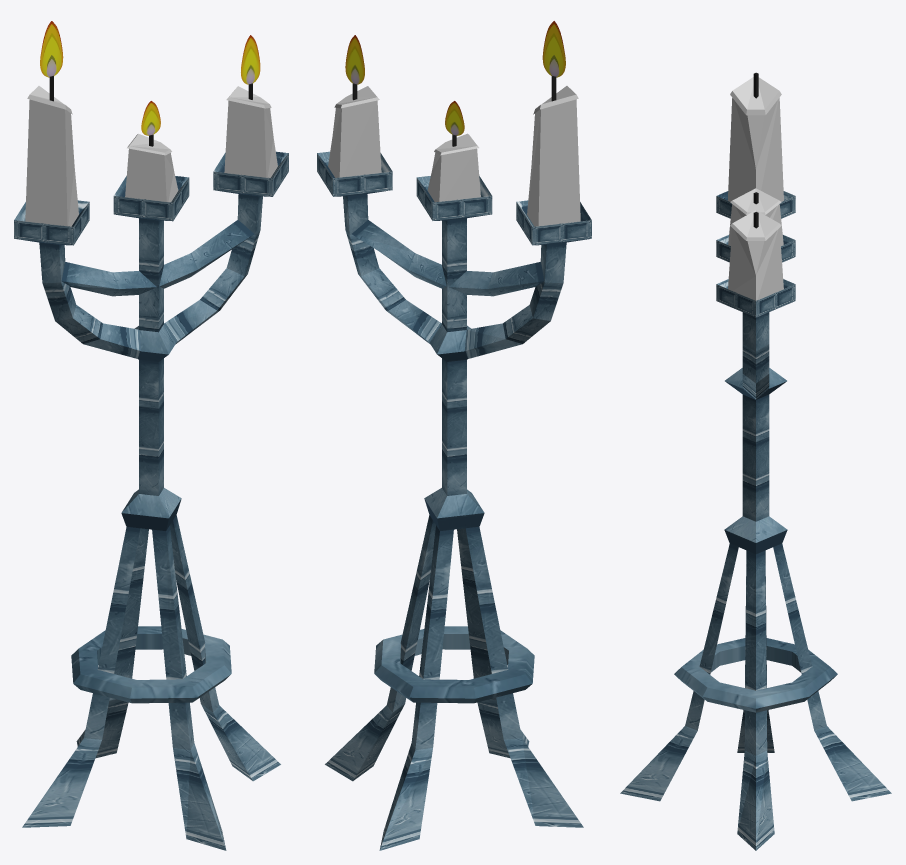
The model's file is Candlestand_lit.fbx.
3 views of the same model, side by side, from view 1: azimuth 30°, elevation 25°; view 2: azimuth 150°, elevation 25°; view 3: azimuth 270°, elevation 25° (orthographic). The views are drawn at different scales.
Visible parts, largest first — view 1: Candlestand_lit; view 2: Candlestand_lit; view 3: Candlestand_lit.
Part boxes in pixels (x1,y1,x2,y2): Candlestand_lit: (14,21,288,850); Candlestand_lit: (317,21,591,850); Candlestand_lit: (620,72,891,850).
Size of the model in its own units: 3.31 by 9.25 by 3.13.
